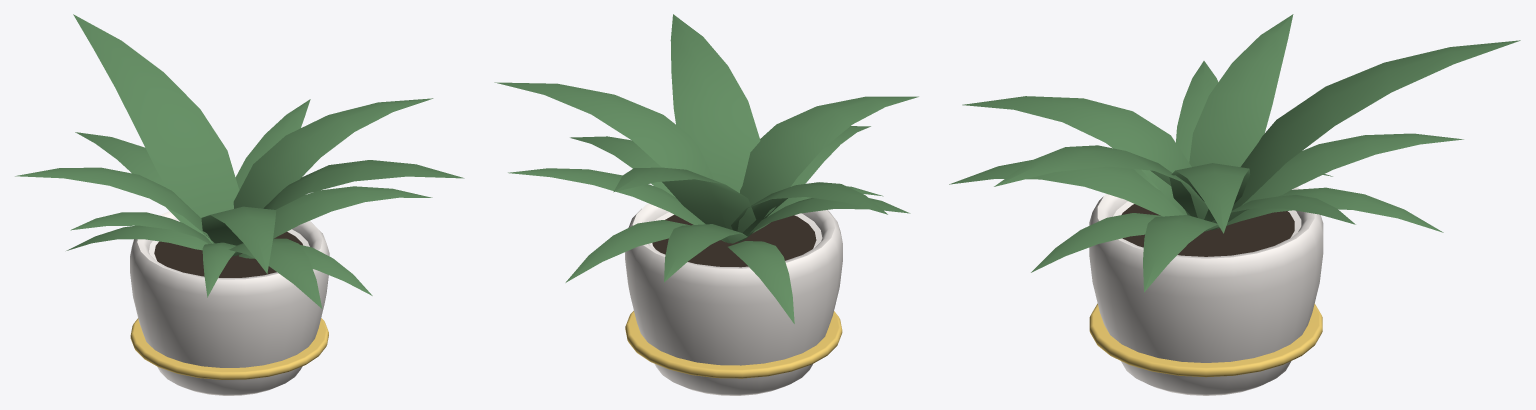
Rendered from plant_potted.glb.
3 renders of one model, left to right at view 1: azimuth 30°, elevation 25°; view 2: azimuth 150°, elevation 25°; view 3: azimuth 270°, elevation 25°, orthographic. The views are drawn at different scales.
Parts seen in each view (by area): view 1: plant_potted; view 2: plant_potted; view 3: plant_potted.
Part boxes in pixels (x1,y1,x2,y2): plant_potted: (15, 14, 464, 395); plant_potted: (494, 14, 918, 395); plant_potted: (949, 14, 1520, 395).
Bounding box in the file's own units: 1.13 × 0.7366 × 1.22.
